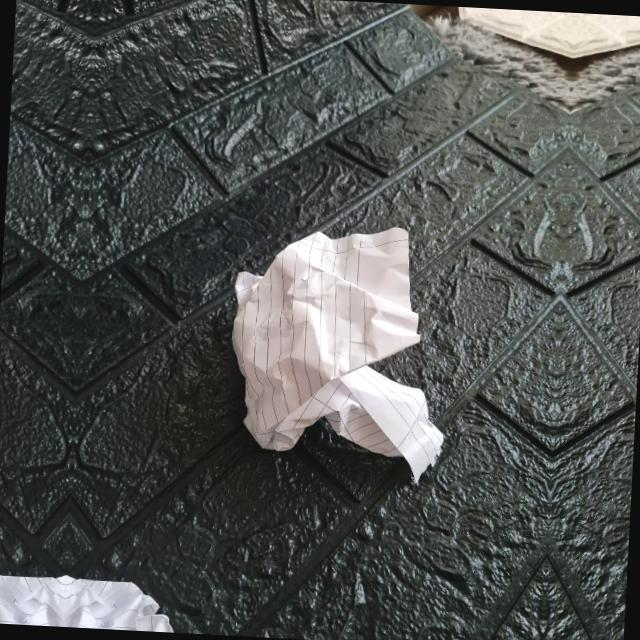paper: (224, 219, 428, 456)
